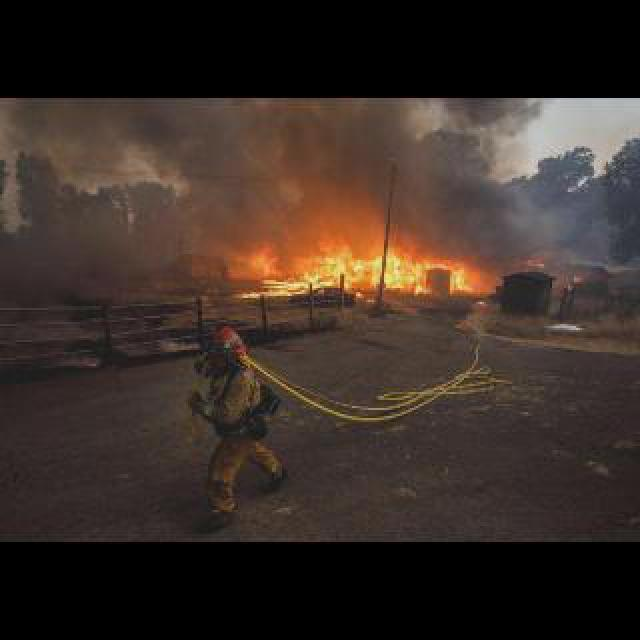fire: (220, 220, 500, 310)
smoke: (1, 92, 604, 272)
